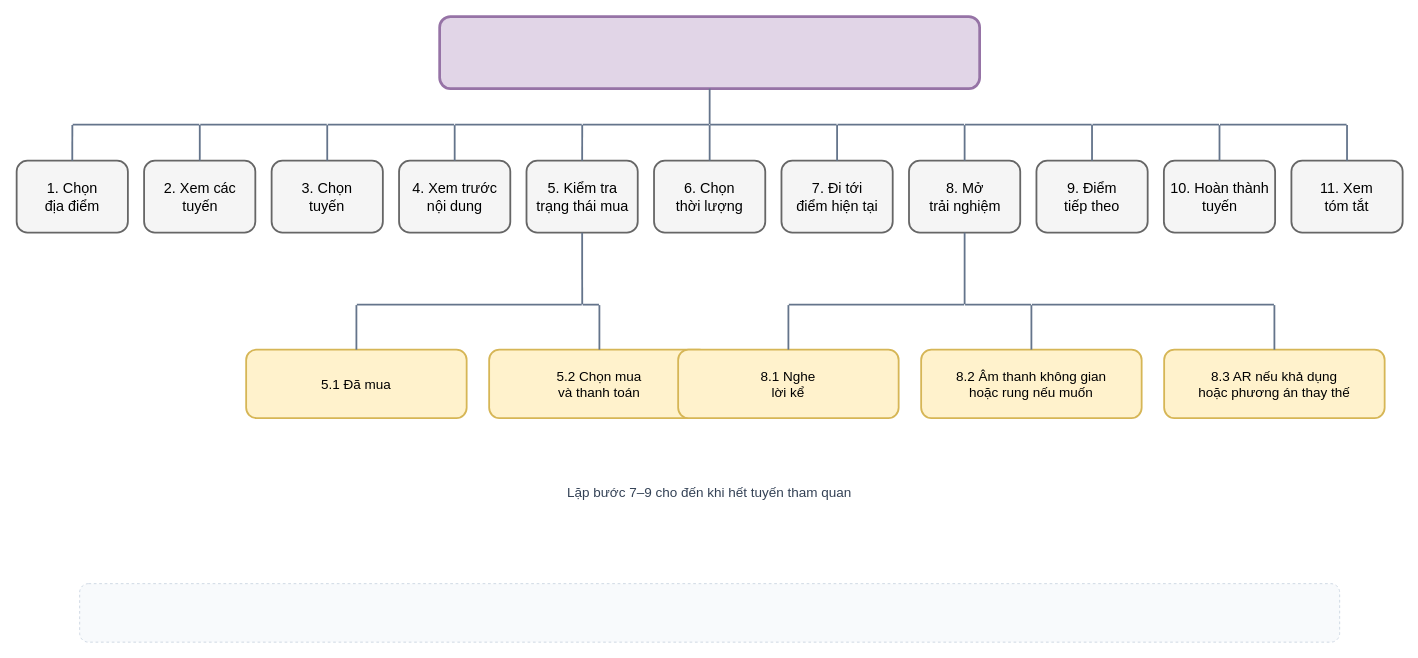
The diagram is 1418 pixels wide and 658 high, and some of its shapes have lost their labels. Each missing label, with the box of its shape:
0. Hoàn thành Premium Historical Tour: (438, 15, 981, 90)
Plan 0: 1 → 2 → 3 → 4 → 5 → 6 → 7 → 8 → 9 (lặp 7–9) → 10 → 11: (79, 583, 1340, 642)
